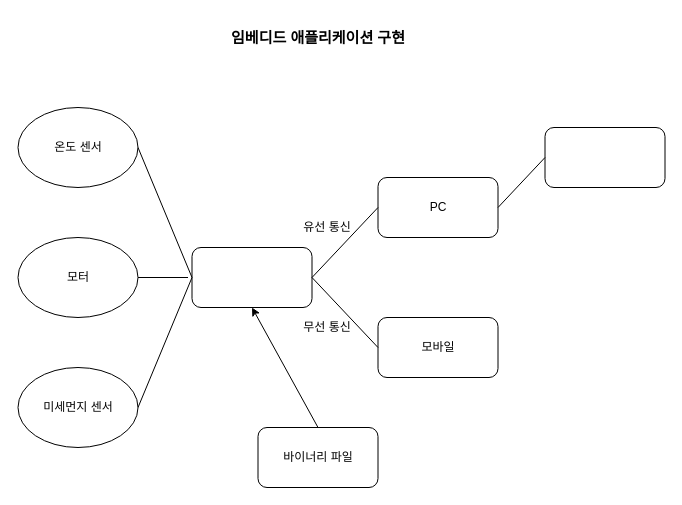
Some shapes in this 682 by 505 pixel diagram are drawn without their labels. Each missing label, with the box of its shape:
Web: (544, 126, 665, 188)
아두이노: (191, 246, 312, 308)
